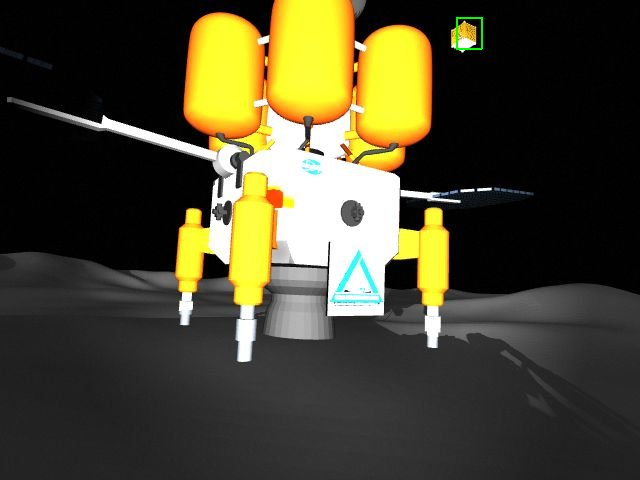basemarker: (328, 246, 387, 306)
